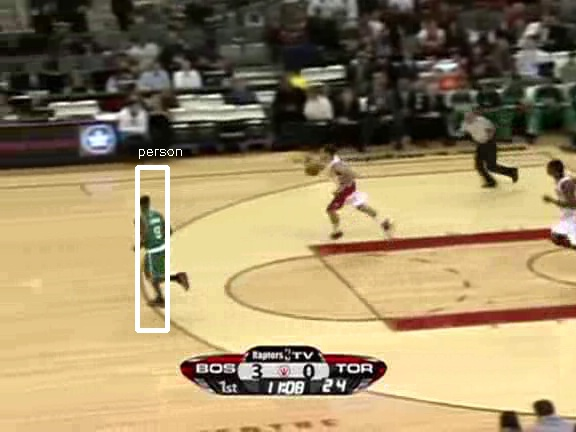person: (140, 205, 174, 286), (139, 205, 173, 286), (141, 205, 175, 286), (140, 204, 174, 285), (140, 206, 174, 287)
target_negative: (182, 33, 526, 397), (340, 85, 486, 403), (337, 21, 502, 238), (408, 256, 487, 414), (484, 239, 527, 352), (333, 429, 445, 432)
